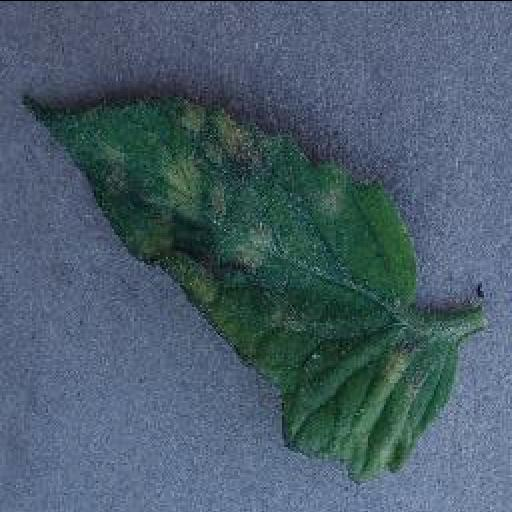disease_tomato: (19, 90, 461, 486)
